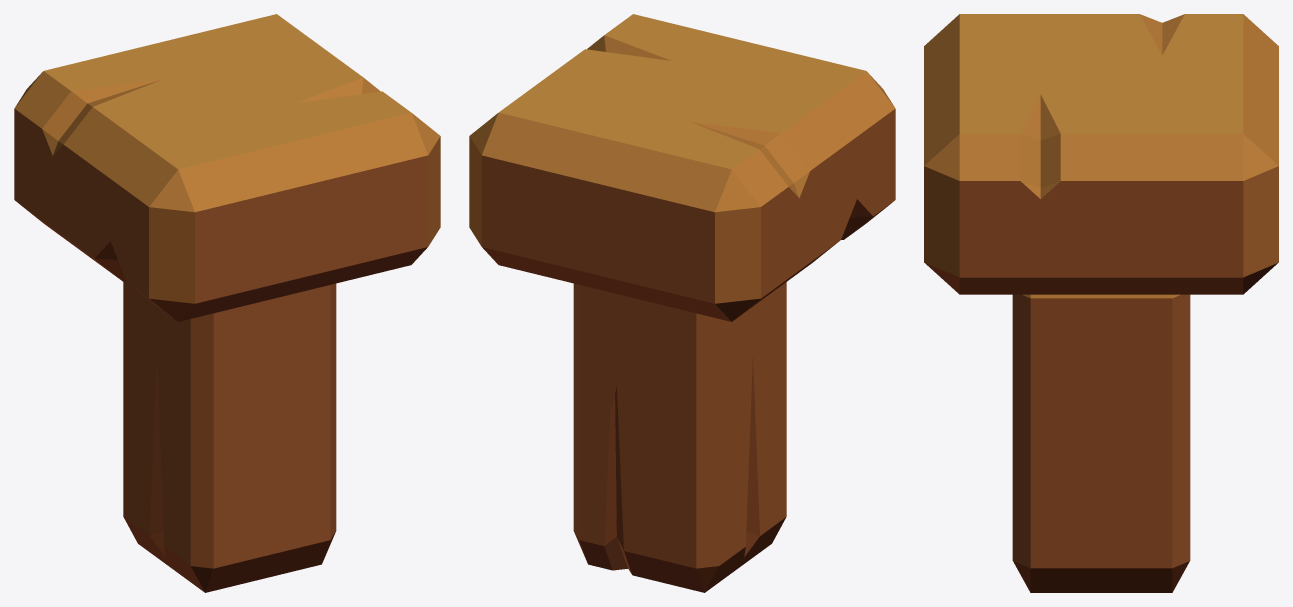
Rendered from m_deco_handrail_mini.FBX.
The picture shows the model from 3 angles, left to right: view 1: azimuth 30°, elevation 25°; view 2: azimuth 150°, elevation 25°; view 3: azimuth 270°, elevation 25°; orthographic projection. The views are drawn at different scales.
Parts seen in each view (by area): view 1: m_deco_handrail_mini; view 2: m_deco_handrail_mini; view 3: m_deco_handrail_mini.
Boxes of the visible parts, <box> form: m_deco_handrail_mini: <box>14,14,440,592</box>; m_deco_handrail_mini: <box>469,14,895,592</box>; m_deco_handrail_mini: <box>924,14,1278,592</box>.
Bounding box in the file's own units: 1 × 1.52 × 1.
